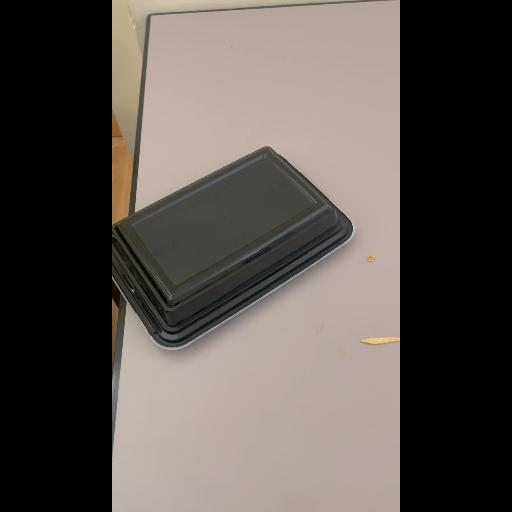rigid_plastic_container: (112, 138, 360, 352)
